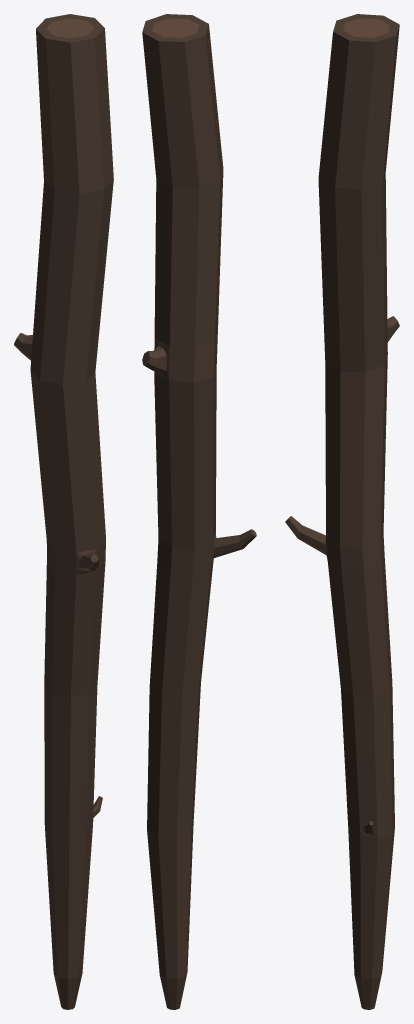
The model's file is stick.fbx.
3 views of the same model, side by side, from view 1: azimuth 90°, elevation 25°; view 2: azimuth 150°, elevation 25°; view 3: azimuth 330°, elevation 25° (orthographic).
Parts seen in each view (by area): view 1: Cylinder; view 2: Cylinder; view 3: Cylinder.
Part boxes in pixels (<box>): Cylinder: <box>14,14,113,1009</box>; Cylinder: <box>142,14,256,1009</box>; Cylinder: <box>285,14,399,1009</box>.
Size of the model in its own units: 67.65 by 642 by 59.27.
